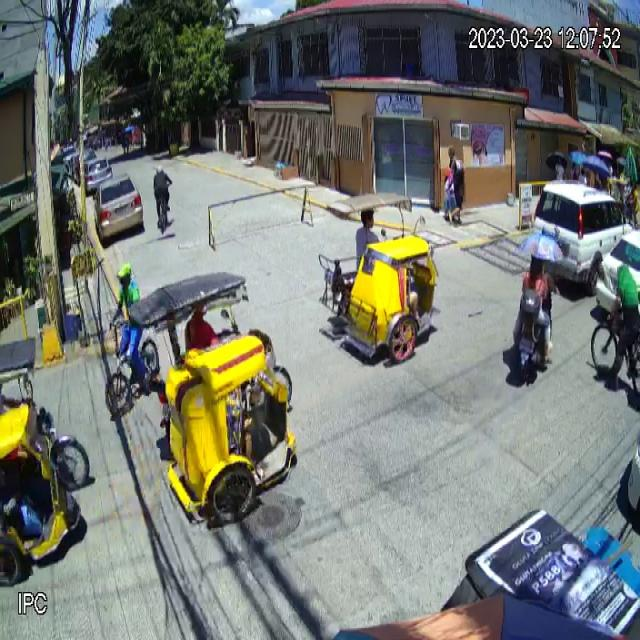Car: (532, 181, 634, 295), (94, 173, 144, 243)
Tricycle: (128, 272, 298, 524), (0, 339, 90, 588), (319, 191, 438, 359)
